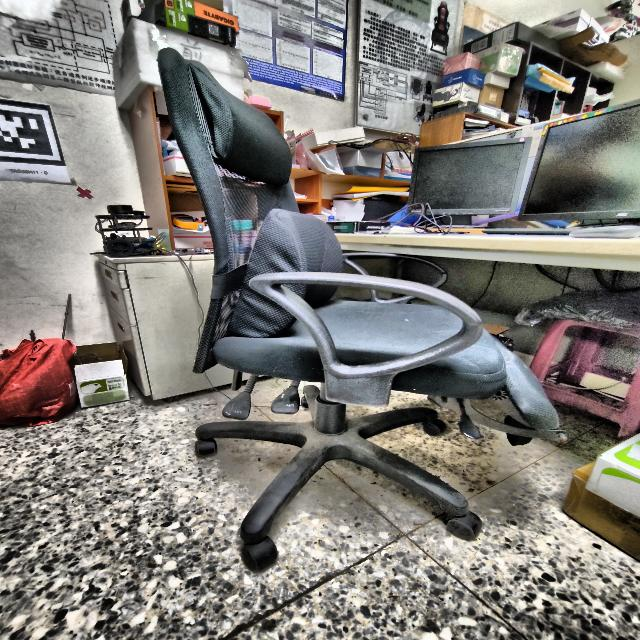cadeira: (157, 42, 576, 577)
